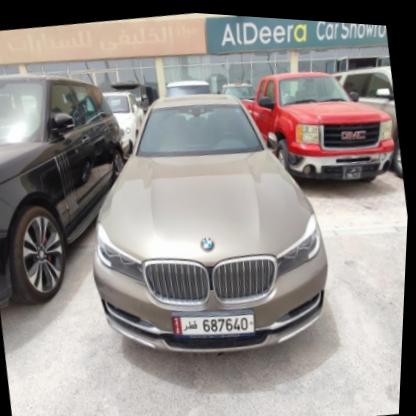np: (171, 297, 260, 346)
